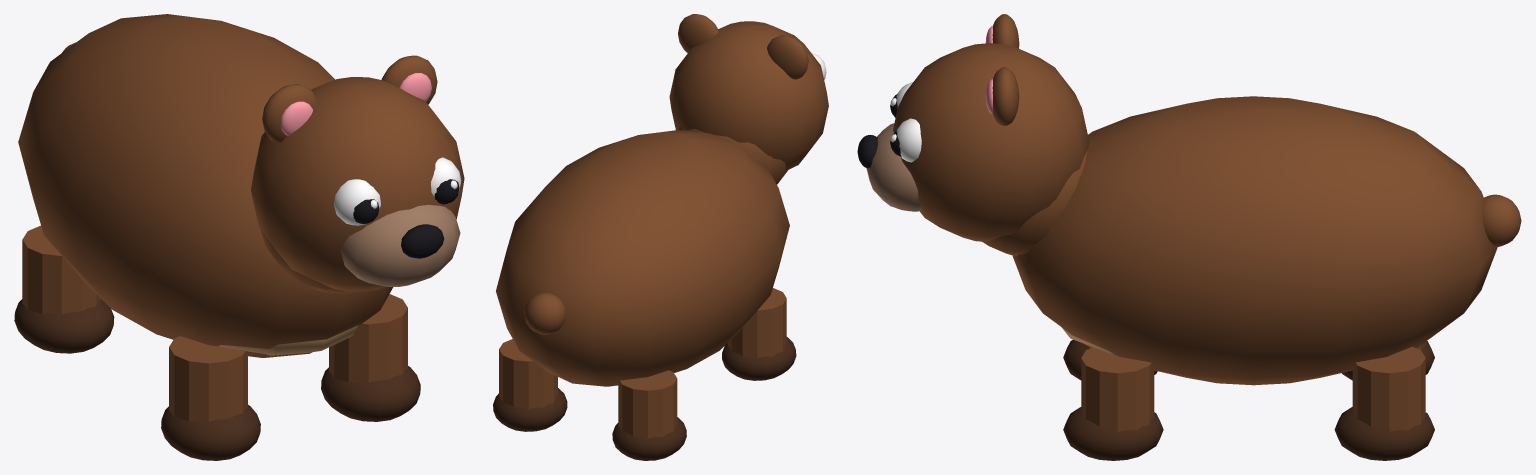
3 renders of one model, left to right at view 1: azimuth 30°, elevation 25°; view 2: azimuth 150°, elevation 25°; view 3: azimuth 270°, elevation 25°, orthographic. The views are drawn at different scales.
Parts seen in each view (by area): view 1: Brown Bear; view 2: Brown Bear; view 3: Brown Bear.
Boxes of the visible parts, x1,y1,x2,y2 form: Brown Bear: (14, 14, 464, 460); Brown Bear: (493, 14, 828, 460); Brown Bear: (857, 14, 1521, 460).
Size of the model in its own units: 2.12 by 2.83 by 4.54.
Materials: 1 (1 with a texture image).
